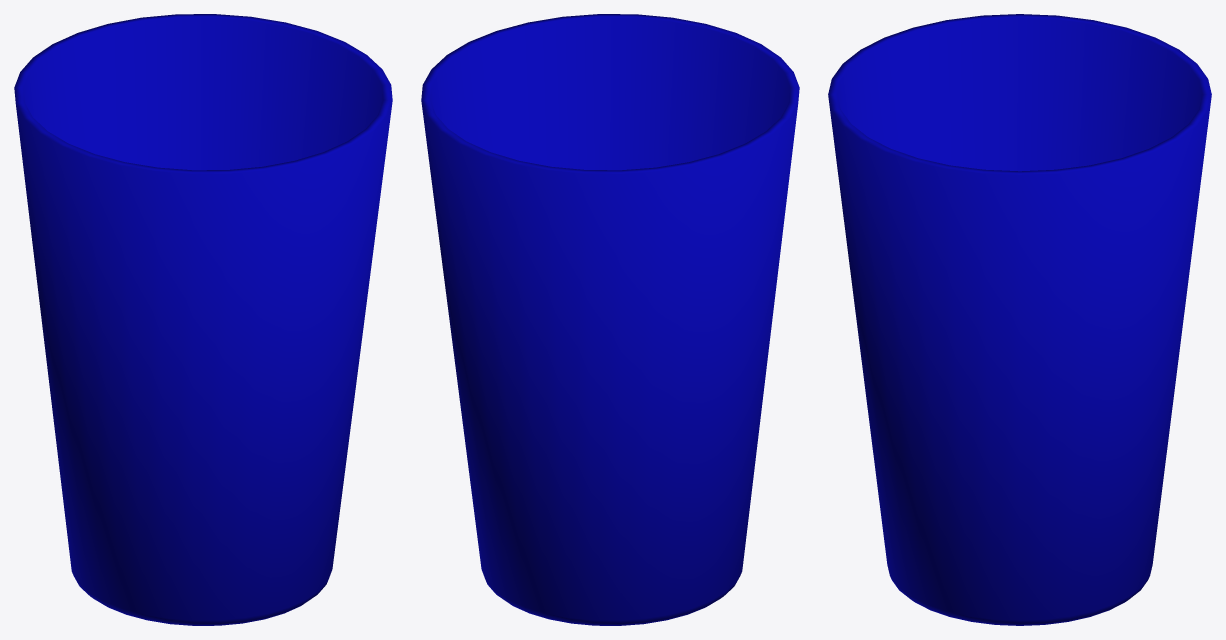
Rendered from BlenderCupCollider.fbx.
3 renders of one model, left to right at view 1: azimuth 30°, elevation 25°; view 2: azimuth 150°, elevation 25°; view 3: azimuth 270°, elevation 25°, orthographic.
Parts seen in each view (by area): view 1: Cup_InnerCollider; view 2: Cup_InnerCollider; view 3: Cup_InnerCollider.
Boxes of the visible parts, x1=… form: Cup_InnerCollider: x1=14, y1=14, x2=392, y2=625; Cup_InnerCollider: x1=421, y1=14, x2=799, y2=625; Cup_InnerCollider: x1=828, y1=14, x2=1211, y2=625.
Size of the model in its own units: 23.04 by 32.39 by 23.38.
